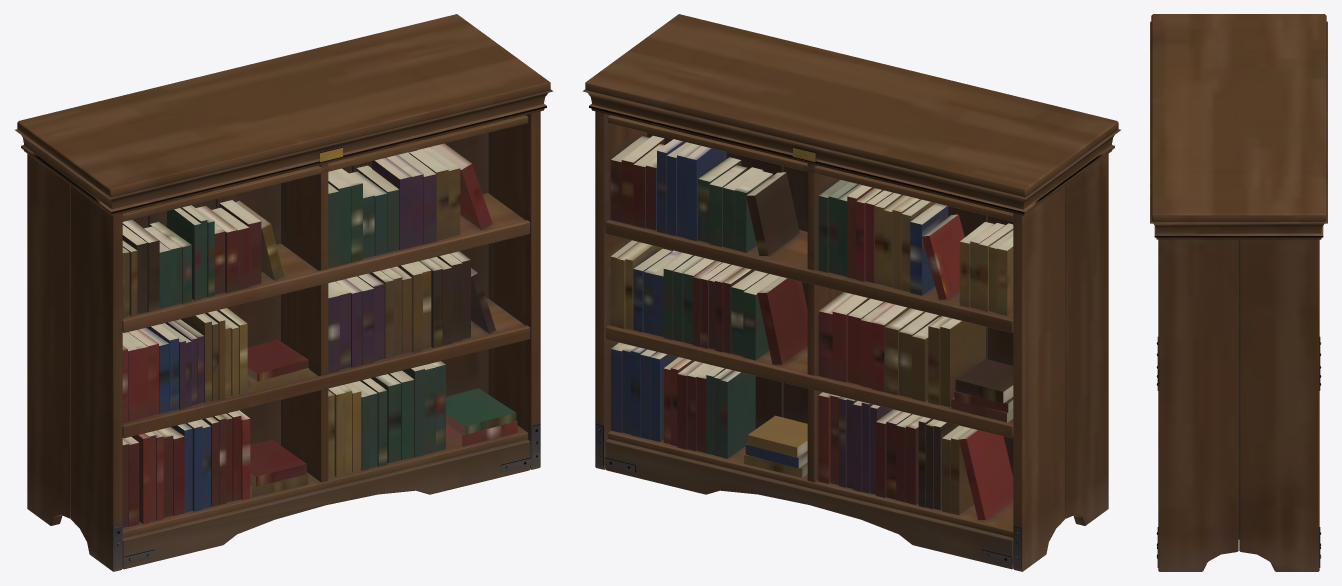
File: bookcase-long.glb
3 views of the same model, side by side, from view 1: azimuth 30°, elevation 25°; view 2: azimuth 150°, elevation 25°; view 3: azimuth 270°, elevation 25° (orthographic). The views are drawn at different scales.
Parts seen in each view (by area): view 1: bookcase-long; view 2: bookcase-long; view 3: bookcase-long.
Boxes of the visible parts, left/top/right/bottom form: bookcase-long: left=15, top=14, right=553, bottom=571; bookcase-long: left=582, top=14, right=1120, bottom=571; bookcase-long: left=1150, top=14, right=1327, bottom=571.
Bounding box in the file's own units: 1.72 × 1.44 × 0.64.
Materials: 1 (1 with a texture image).
